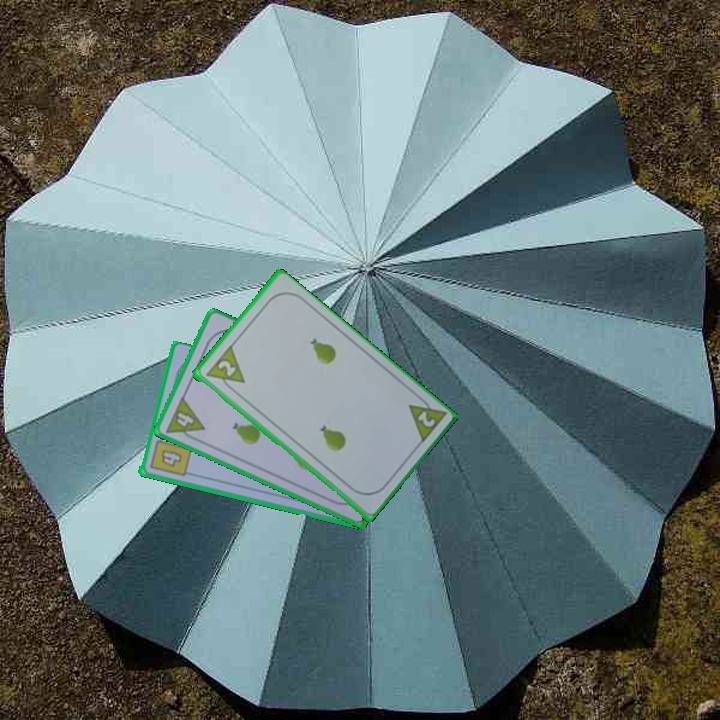2p: (404, 391, 448, 447), (213, 356, 239, 380)
4b: (146, 430, 193, 479)
4p: (162, 393, 207, 445)
